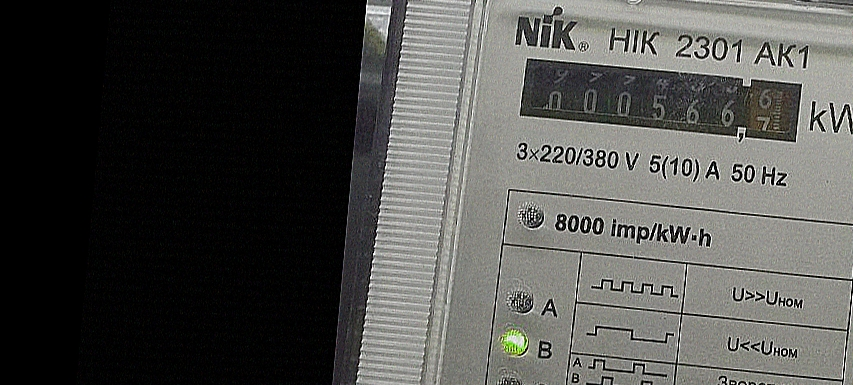0: (616, 88, 636, 119), (582, 84, 601, 115), (546, 86, 567, 111)
5: (650, 91, 671, 122)
6: (719, 96, 741, 128), (683, 95, 705, 125), (759, 86, 777, 112)
7: (756, 114, 773, 133)
9: (552, 64, 572, 86)
screen: (511, 49, 810, 151)
